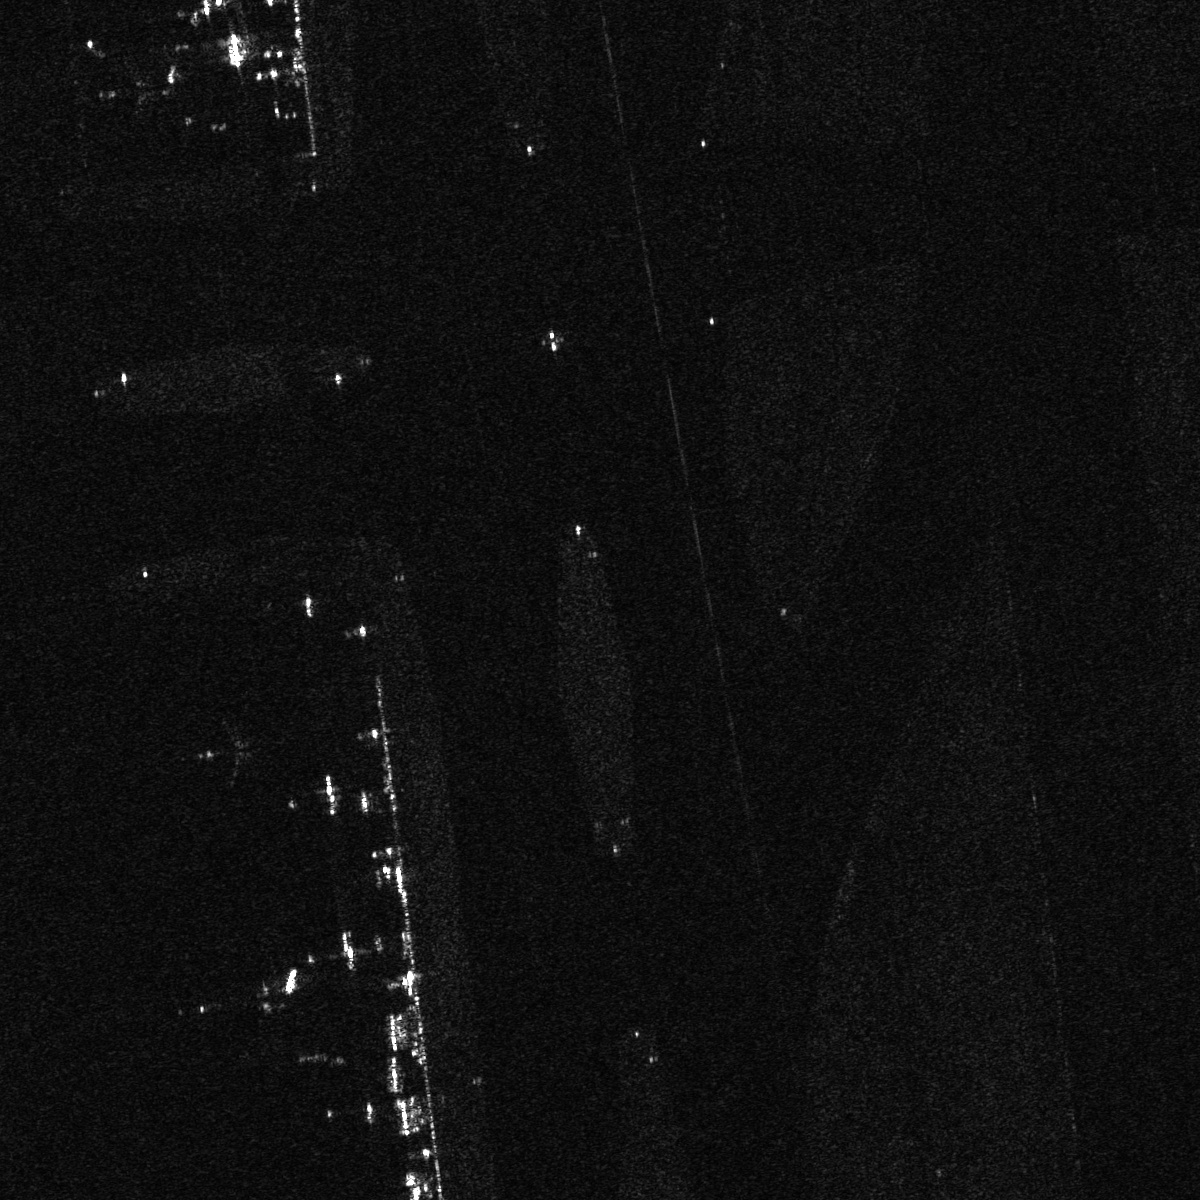Boeing737: (188, 716, 263, 792)
